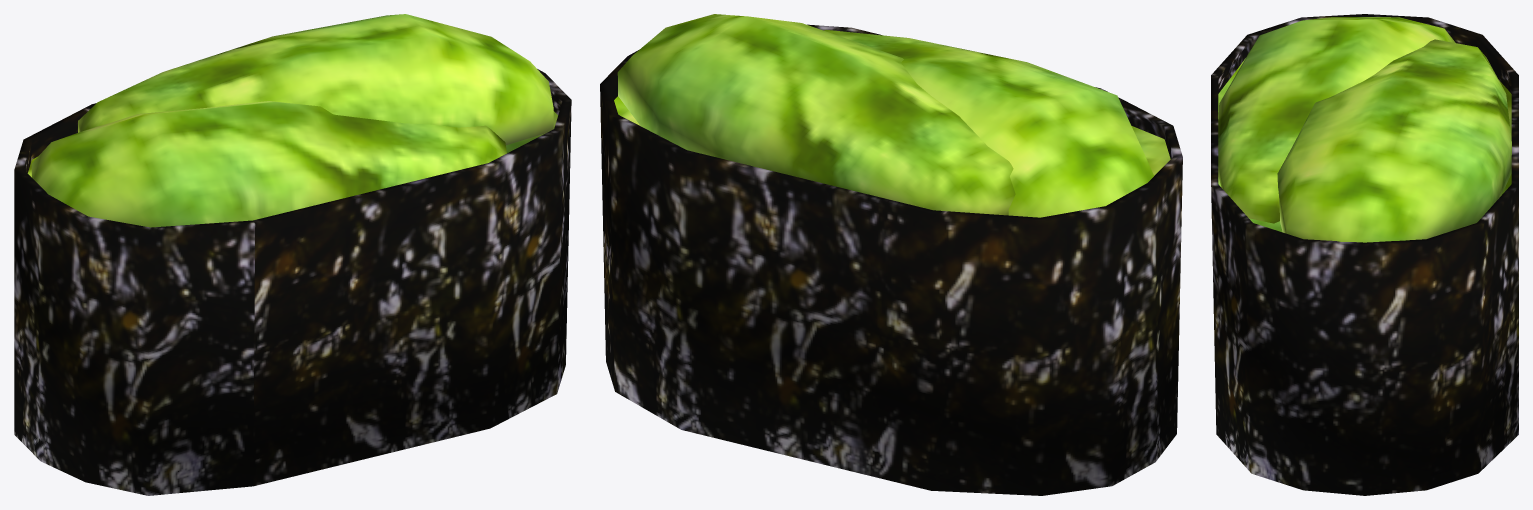
File: wasabi_gunkan.fbx
3 renders of one model, left to right at view 1: azimuth 30°, elevation 25°; view 2: azimuth 150°, elevation 25°; view 3: azimuth 270°, elevation 25°, orthographic. The views are drawn at different scales.
Visible parts, largest first — view 1: wasabi_gunkan; view 2: wasabi_gunkan; view 3: wasabi_gunkan.
Part boxes in pixels (x1,y1,x2,y2): wasabi_gunkan: (14, 14, 571, 495); wasabi_gunkan: (600, 14, 1182, 495); wasabi_gunkan: (1211, 14, 1518, 495).
Size of the model in its own units: 5.61 by 3.51 by 3.14.
